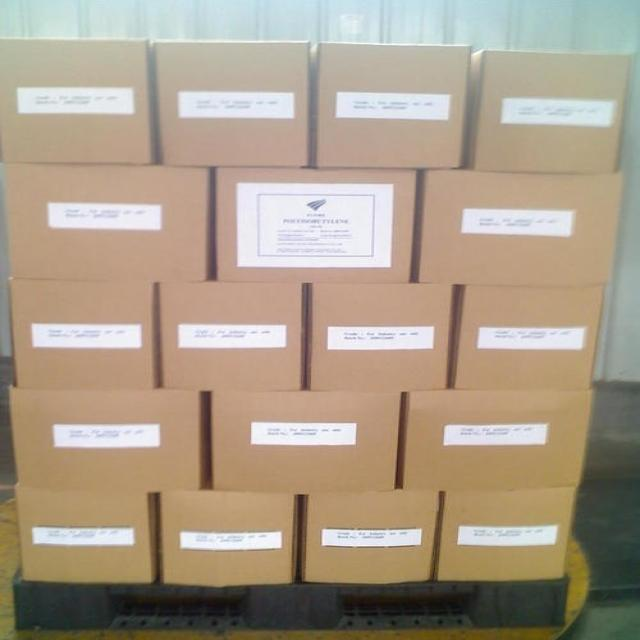box: (410, 170, 623, 286), (3, 165, 215, 281), (215, 167, 419, 282), (310, 41, 475, 170), (9, 387, 210, 491), (151, 40, 311, 168), (466, 50, 632, 172), (211, 391, 404, 495), (0, 37, 156, 165), (399, 388, 594, 489), (449, 283, 609, 390), (6, 279, 156, 389), (156, 283, 306, 391), (306, 284, 454, 391), (18, 483, 160, 583), (435, 487, 577, 583), (163, 489, 300, 588), (302, 487, 440, 585)
